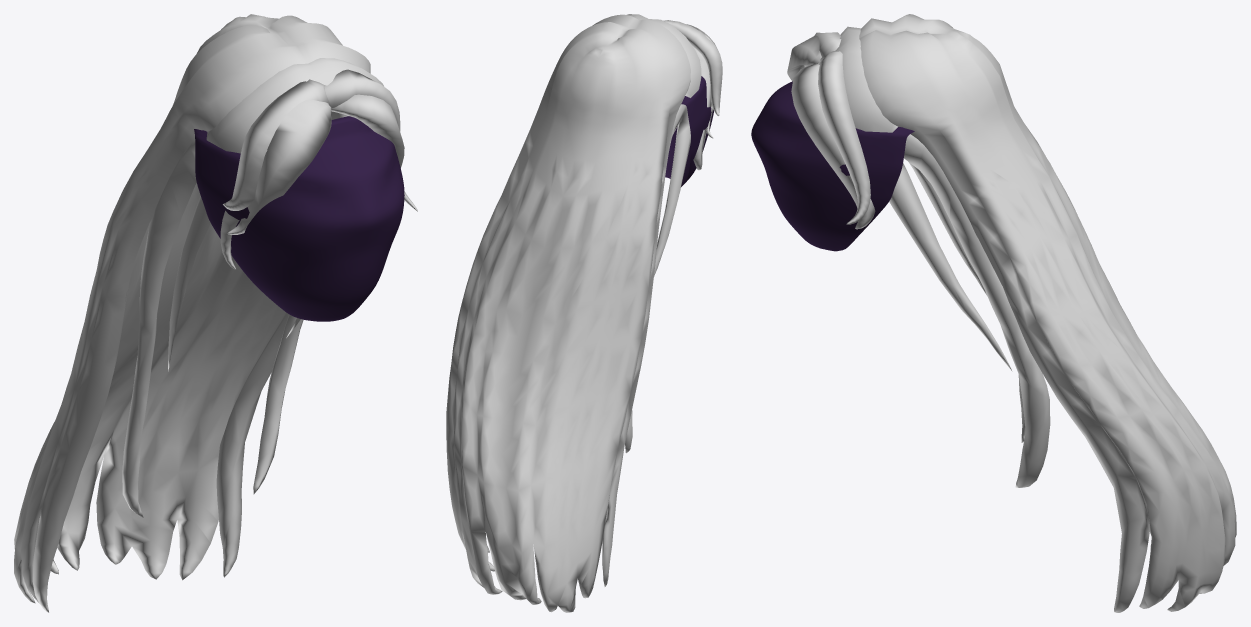
File: mirage-head-9e9f39d98310.glb
3 views of the same model, side by side, from view 1: azimuth 30°, elevation 25°; view 2: azimuth 150°, elevation 25°; view 3: azimuth 270°, elevation 25° (orthographic). The views are drawn at different scales.
Visible parts, largest first — view 1: SM_Hero_mirage_FlowingLongHair_A, SM_Hero_mirage_FullMask_A; view 2: SM_Hero_mirage_FlowingLongHair_A, SM_Hero_mirage_FullMask_A; view 3: SM_Hero_mirage_FlowingLongHair_A, SM_Hero_mirage_FullMask_A.
Boxes of the visible parts, x1,y1,x2,y2 form: SM_Hero_mirage_FlowingLongHair_A: [14, 14, 417, 612]; SM_Hero_mirage_FullMask_A: [194, 116, 404, 321]; SM_Hero_mirage_FlowingLongHair_A: [446, 14, 722, 612]; SM_Hero_mirage_FullMask_A: [665, 76, 713, 186]; SM_Hero_mirage_FlowingLongHair_A: [787, 14, 1236, 612]; SM_Hero_mirage_FullMask_A: [751, 81, 914, 251].
Size of the model in its own units: 0.2525 by 0.6766 by 0.5194.
